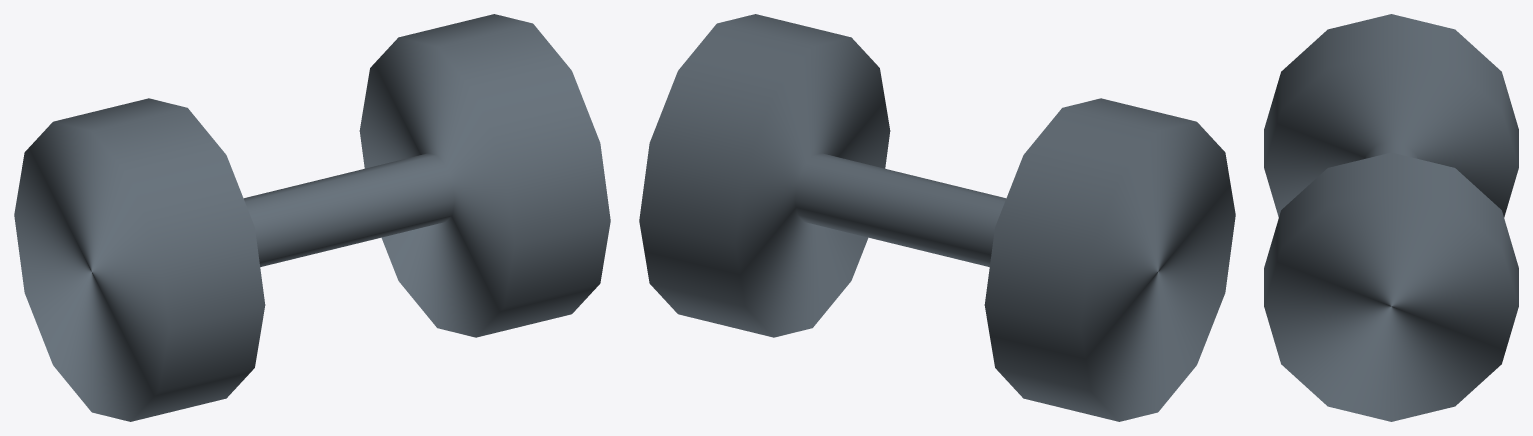
The model's file is dumbbell.glb.
The picture shows the model from 3 angles, left to right: view 1: azimuth 30°, elevation 25°; view 2: azimuth 150°, elevation 25°; view 3: azimuth 270°, elevation 25°; orthographic projection. The views are drawn at different scales.
Parts seen in each view (by area): view 1: dumbbell; view 2: dumbbell; view 3: dumbbell.
Boxes of the visible parts, x1,y1,x2,y2 form: dumbbell: (14,14,610,421); dumbbell: (639,14,1235,421); dumbbell: (1264,14,1518,421).
Size of the model in its own units: 0.23 by 0.14 by 0.14.
